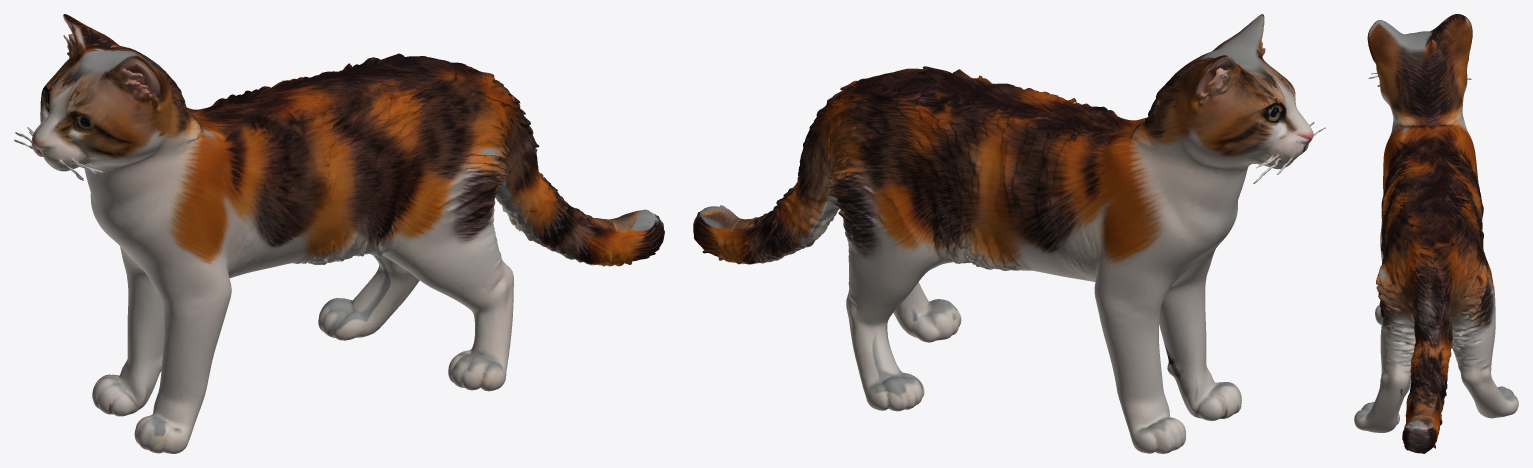
File: deskcat_cage_trial_01_baked_poses.glb
3 views of the same model, side by side, from view 1: azimuth 30°, elevation 25°; view 2: azimuth 150°, elevation 25°; view 3: azimuth 270°, elevation 25° (orthographic). The views are drawn at different scales.
Parts seen in each view (by area): view 1: tripo_node_9c2f352c-c3b7-4428-8368-29a06beccb2a; view 2: tripo_node_9c2f352c-c3b7-4428-8368-29a06beccb2a; view 3: tripo_node_9c2f352c-c3b7-4428-8368-29a06beccb2a.
Boxes of the visible parts, box(x1,y1,x2,y2) form: tripo_node_9c2f352c-c3b7-4428-8368-29a06beccb2a: box(14, 14, 664, 453); tripo_node_9c2f352c-c3b7-4428-8368-29a06beccb2a: box(693, 14, 1325, 453); tripo_node_9c2f352c-c3b7-4428-8368-29a06beccb2a: box(1354, 14, 1518, 453).
Size of the model in its own units: 1 by 0.6262 by 0.3199.
Materials: 1 (1 with a texture image).
